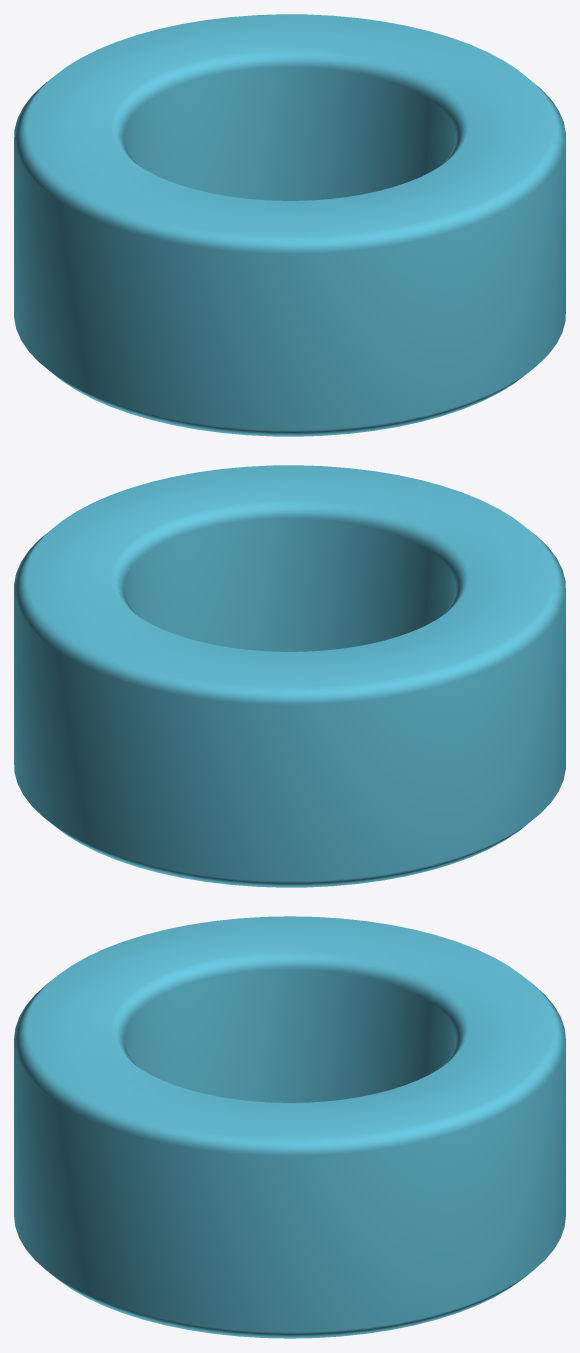
The picture shows the model from 3 angles, top to bottom: view 1: azimuth 30°, elevation 25°; view 2: azimuth 150°, elevation 25°; view 3: azimuth 270°, elevation 25°; orthographic projection.
Parts seen in each view (by area): view 1: seal_body; view 2: seal_body; view 3: seal_body.
Boxes of the visible parts, x1=… form: seal_body: x1=14, y1=14, x2=565, y2=436; seal_body: x1=14, y1=465, x2=565, y2=887; seal_body: x1=14, y1=916, x2=565, y2=1338.
Size of the model in its own units: 0.0159 by 0.00635 by 0.0159.
